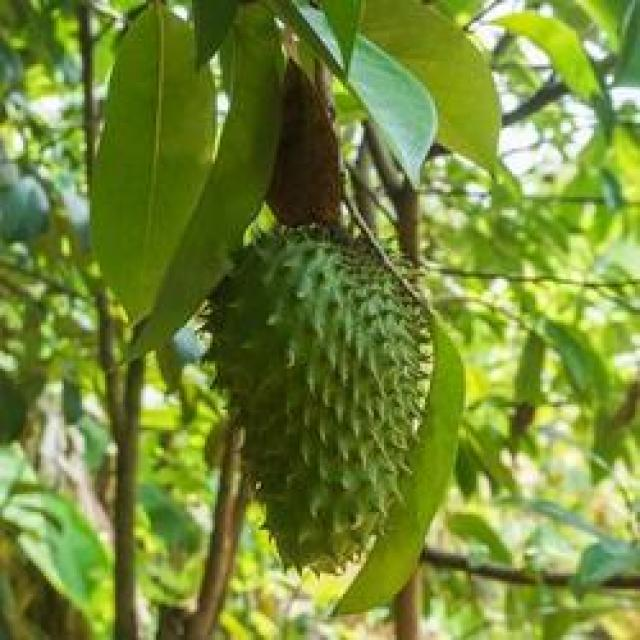apple: (207, 222, 438, 584)
